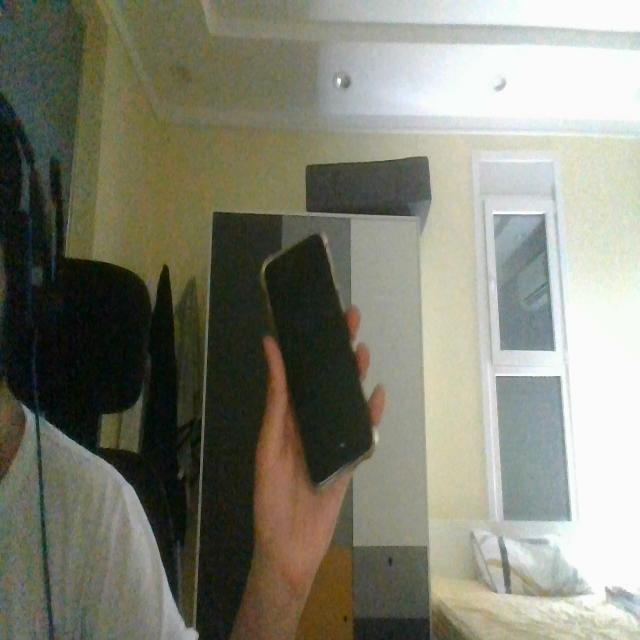Phone: (259, 224, 380, 496)
